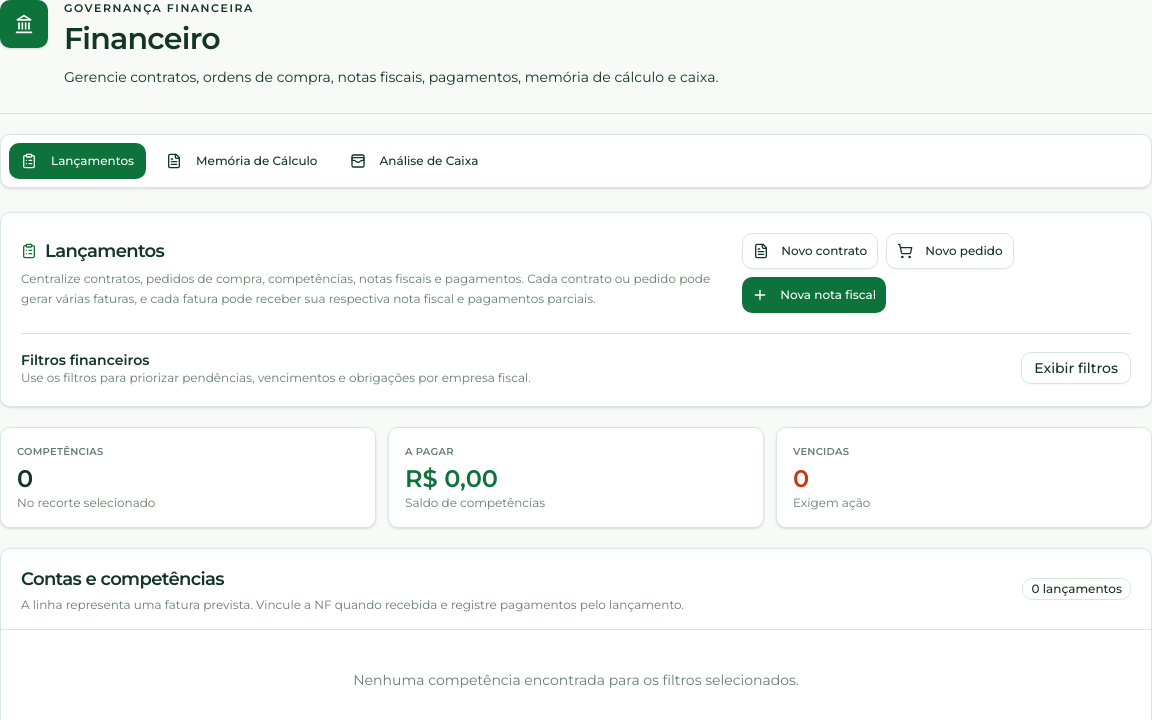
Scenario: previsões operacionais no financeiro › preenche fornecedor, valor e vínculo da nota a partir de uma ação prevista
Click the button "Análise de Caixa" at (414,160), box [338,142,490,178]
(page scrolled)
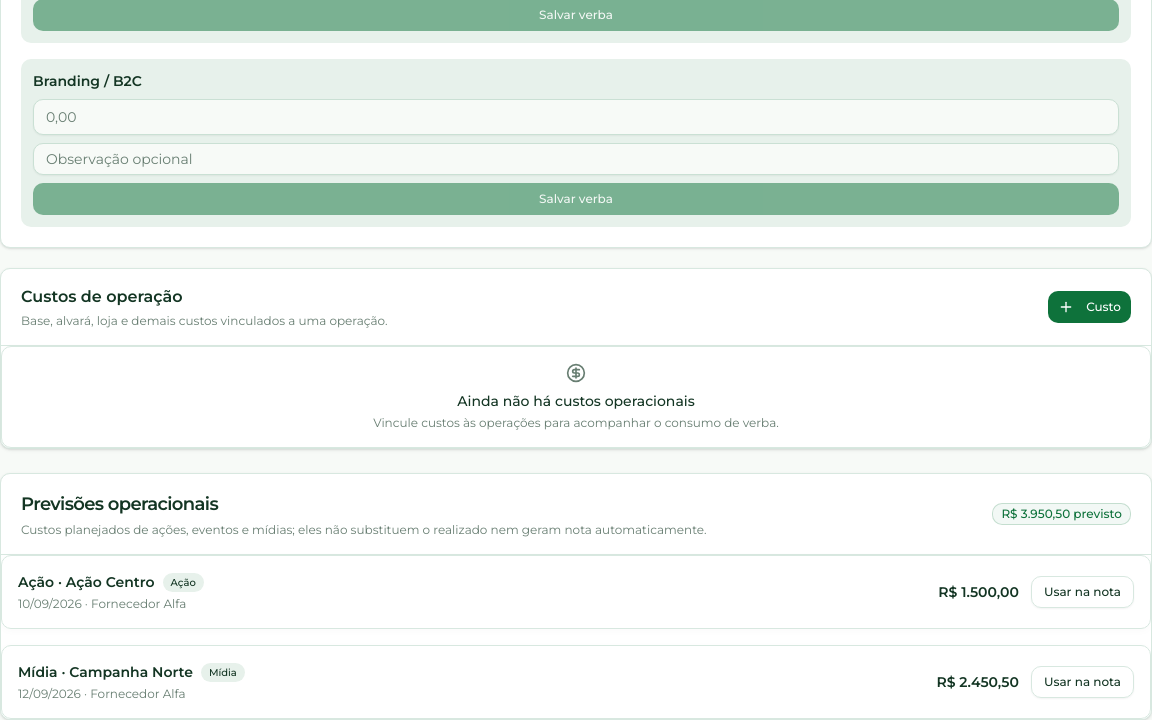
Expected: the text "Previsões operacionais" is shown, [21,493,218,515]
Click the button "Usar na nota" next to "R$ 1.500,00" at (1082,592), box [1031,576,1134,608]
(page scrolled)
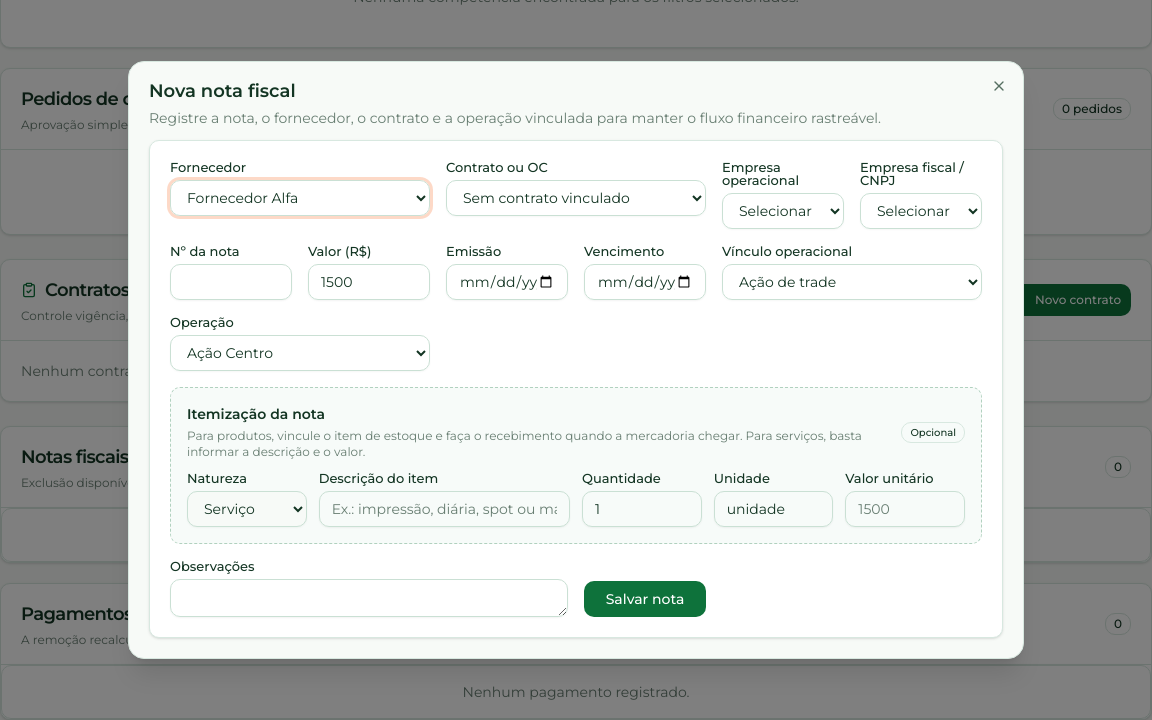
Expected: the form labelled "Nº da nota" is shown, [149,140,1003,638]
Expected: the dropdown labelled "Fornecedor" shows "Fornecedor Alfa", [170,180,430,216]
Expected: the number field labelled "Valor (R$)" holds "1500", [308,264,430,300]
